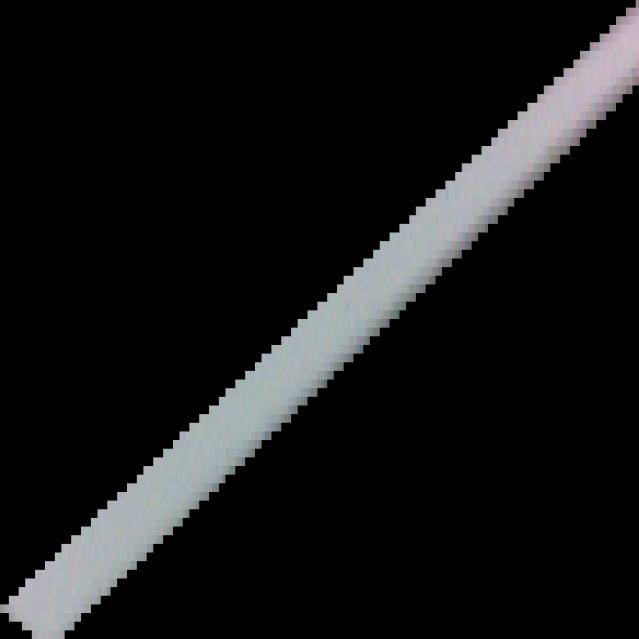lane: (1, 1, 639, 639)
